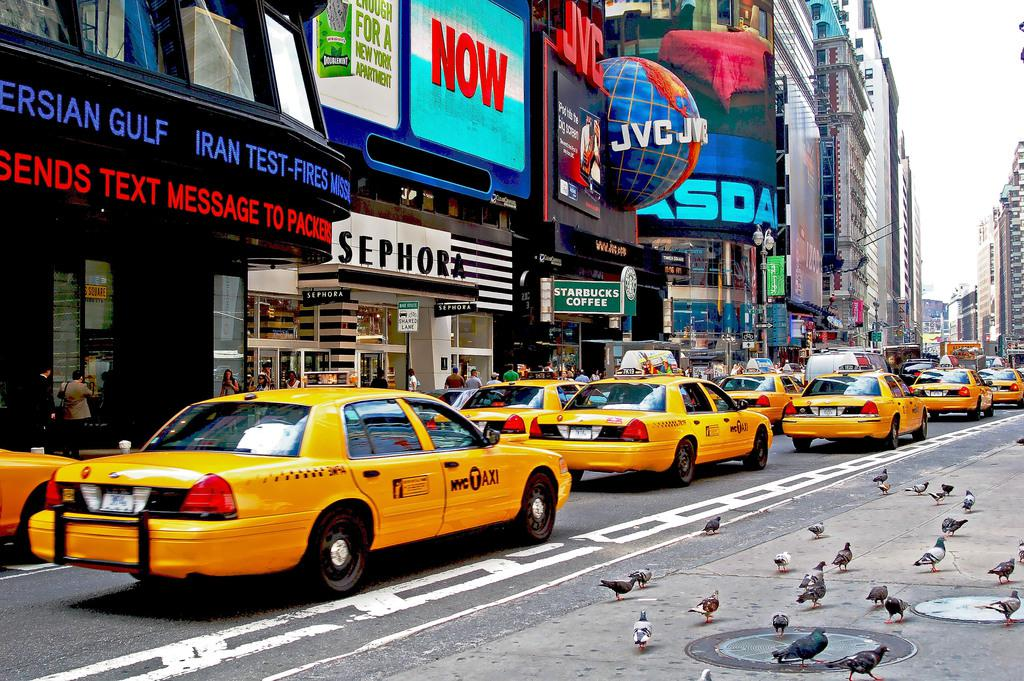taxi: (1, 357, 1024, 598)
